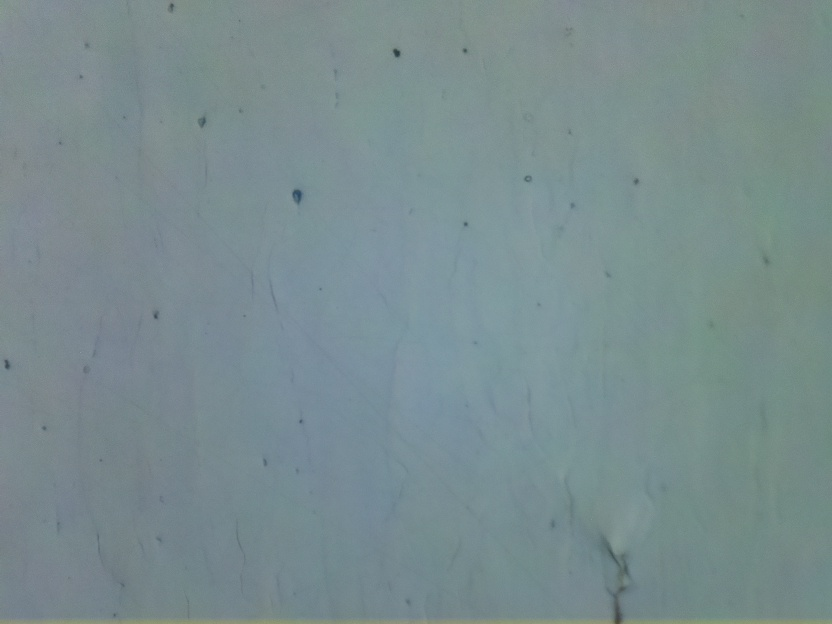crack: (604, 545, 639, 624)
